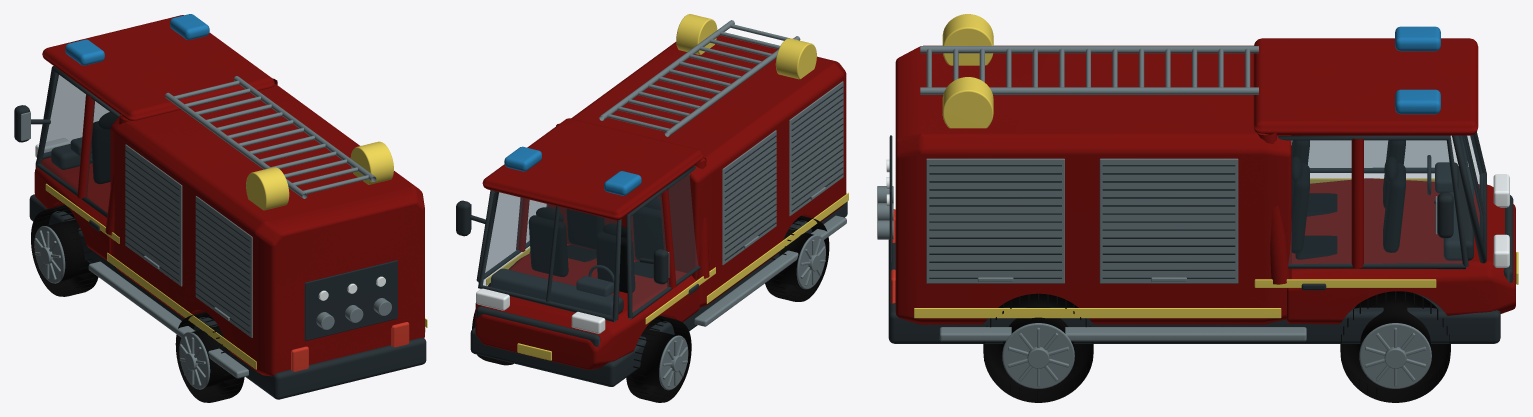
Rendered from fire_truck.glb.
3 views of the same model, side by side, from view 1: azimuth 30°, elevation 25°; view 2: azimuth 150°, elevation 25°; view 3: azimuth 270°, elevation 25° (orthographic). The views are drawn at different scales.
Visible parts, largest first — view 1: FireApplianceDetails, Wheel_LF_mesh, Wheel_LR_mesh; view 2: FireApplianceDetails, Wheel_LF_mesh, Wheel_LR_mesh; view 3: FireApplianceDetails, Wheel_RF_mesh, Wheel_RR_mesh.
Boxes of the visible parts, x1,y1,x2,y2 form: FireApplianceDetails: [14, 14, 427, 399]; Wheel_LF_mesh: [31, 205, 98, 296]; Wheel_LR_mesh: [175, 312, 244, 402]; FireApplianceDetails: [456, 14, 848, 386]; Wheel_LF_mesh: [626, 316, 691, 402]; Wheel_LR_mesh: [765, 215, 829, 301]; FireApplianceDetails: [877, 14, 1518, 343]; Wheel_RF_mesh: [1340, 291, 1450, 402]; Wheel_RR_mesh: [983, 293, 1093, 402].
Size of the model in its own units: 3.08 by 3.2 by 6.29.
Materials: 11 (5 with a texture image).
